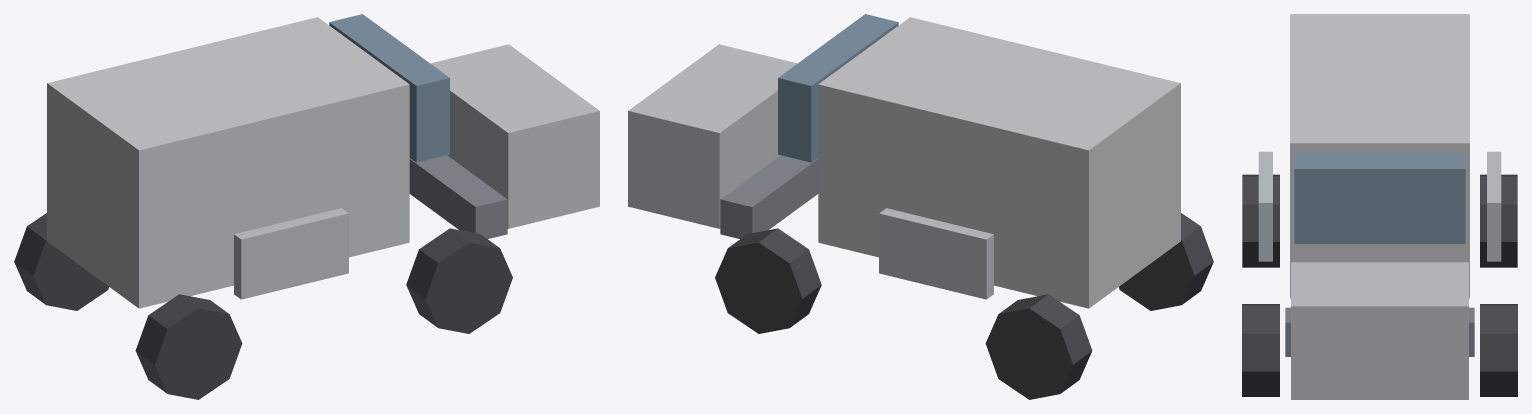
The picture shows the model from 3 angles, left to right: view 1: azimuth 30°, elevation 25°; view 2: azimuth 150°, elevation 25°; view 3: azimuth 270°, elevation 25°; orthographic projection. The views are drawn at different scales.
Parts seen in each view (by area): view 1: part0, part1, part7, part9, part4, part2, part5, part8; view 2: part0, part1, part6, part8, part3, part2, part5, part9; view 3: part0, part1, part2, part6, part7, part8, part9, part3, part4, part5.
Part boxes in pixels (left/top/right/bottom): part0: left=47, top=17, right=409, bottom=308; part1: left=430, top=44, right=599, bottom=228; part7: left=406, top=228, right=512, bottom=333; part9: left=135, top=294, right=242, bottom=399; part4: left=234, top=208, right=348, bottom=299; part2: left=329, top=14, right=449, bottom=162; part5: left=409, top=155, right=507, bottom=238; part8: left=14, top=213, right=108, bottom=310; part0: left=818, top=17, right=1180, bottom=308; part1: left=628, top=44, right=797, bottom=228; part6: left=715, top=228, right=821, bottom=333; part8: left=985, top=294, right=1092, bottom=399; part3: left=879, top=208, right=993, bottom=299; part2: left=778, top=14, right=898, bottom=162; part5: left=720, top=155, right=818, bottom=238; part9: left=1119, top=213, right=1213, bottom=310; part0: left=1290, top=14, right=1469, bottom=298; part1: left=1291, top=262, right=1468, bottom=399; part2: left=1294, top=153, right=1465, bottom=243; part6: left=1480, top=304, right=1517, bottom=396; part7: left=1242, top=304, right=1279, bottom=396; part8: left=1480, top=174, right=1517, bottom=267; part9: left=1242, top=174, right=1279, bottom=267; part3: left=1487, top=151, right=1501, bottom=261; part4: left=1258, top=151, right=1272, bottom=261; part5: left=1285, top=307, right=1474, bottom=356.
Bounding box in the file's own units: 5.9 × 2.89 × 3.06.
